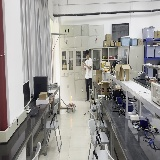fire: (68, 91, 73, 106)
